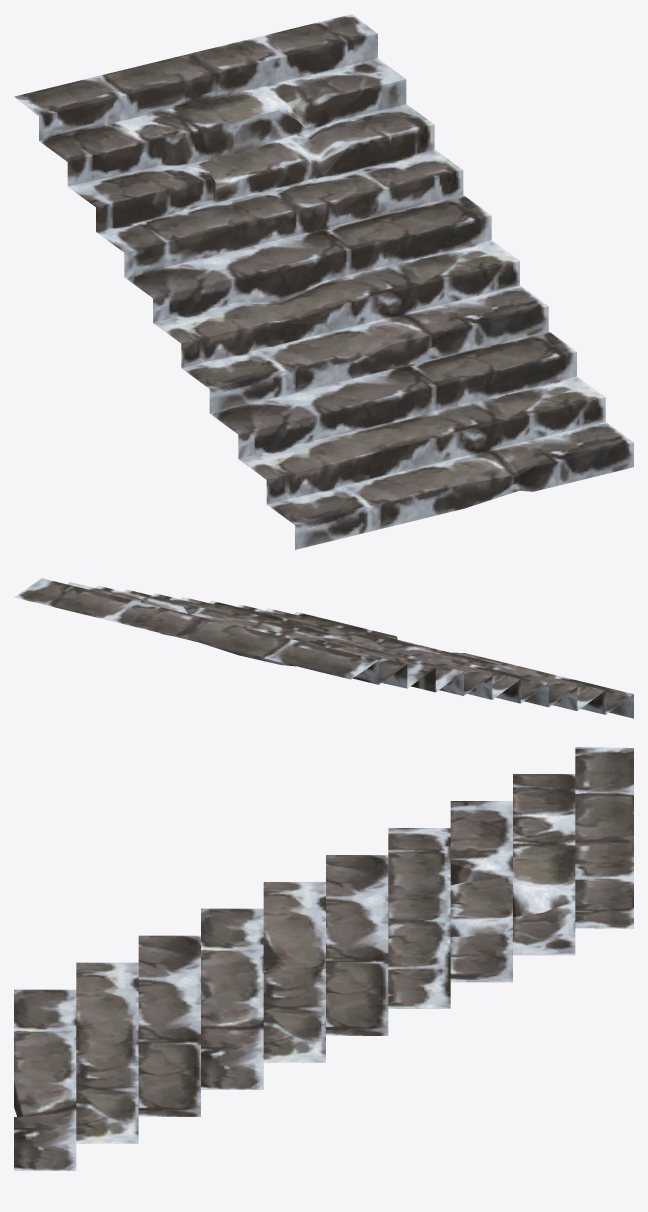
File: 2005_Item_louti_4.FBX
3 views of the same model, one above another, from view 1: azimuth 30°, elevation 25°; view 2: azimuth 150°, elevation 25°; view 3: azimuth 270°, elevation 25° (orthographic). The views are drawn at different scales.
Visible parts, largest first — view 1: 2005_Item_louti_4; view 2: 2005_Item_louti_4; view 3: 2005_Item_louti_4.
Part boxes in pixels (<box>): 2005_Item_louti_4: <box>14,14,633,549</box>; 2005_Item_louti_4: <box>14,578,633,718</box>; 2005_Item_louti_4: <box>14,747,633,1170</box>.
Bounding box in the file's own units: 119 × 82.32 × 172.
